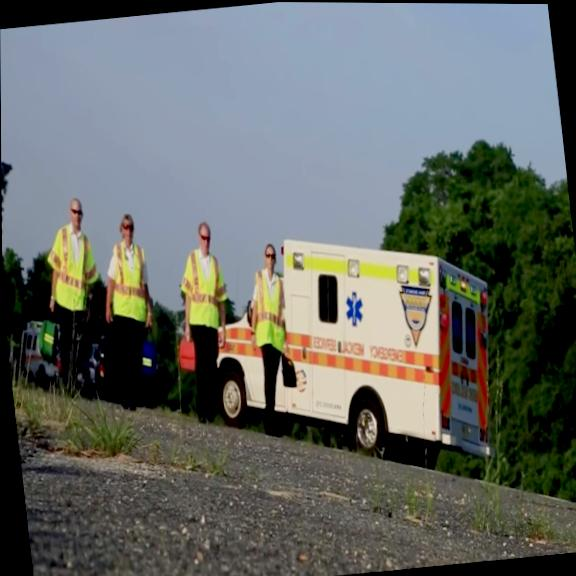safety_vest: (42, 222, 105, 314), (104, 240, 151, 330), (246, 269, 291, 355), (181, 246, 226, 332)
